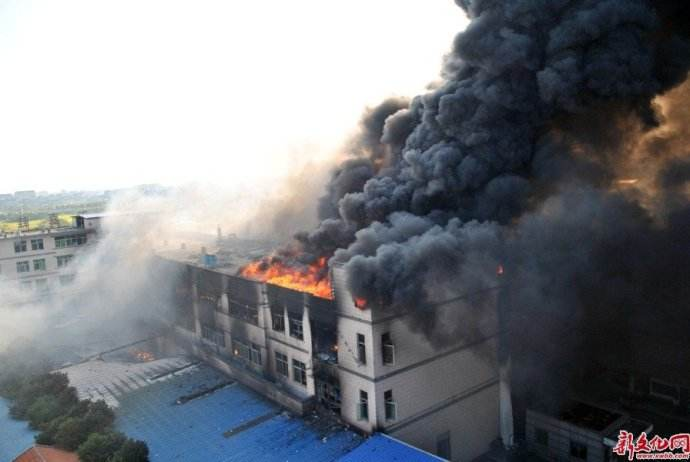fire: (245, 239, 353, 303)
